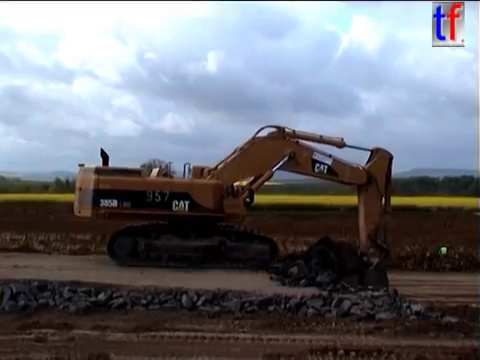excavator: (70, 122, 397, 309)
